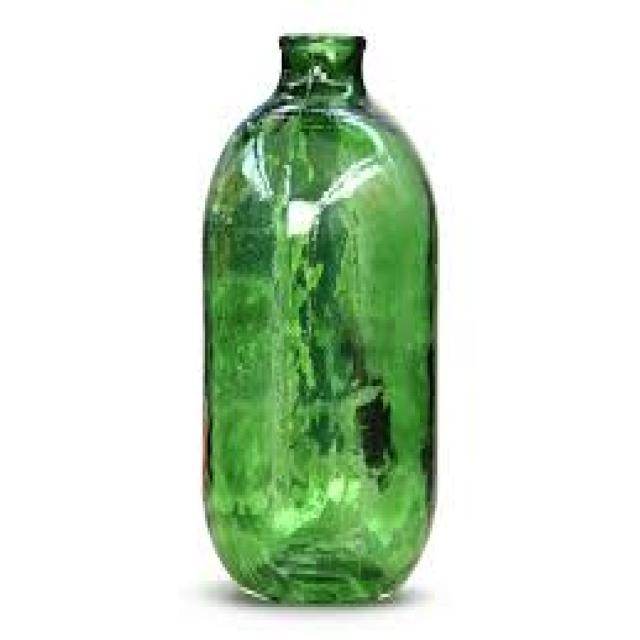glass: (203, 33, 435, 597)
